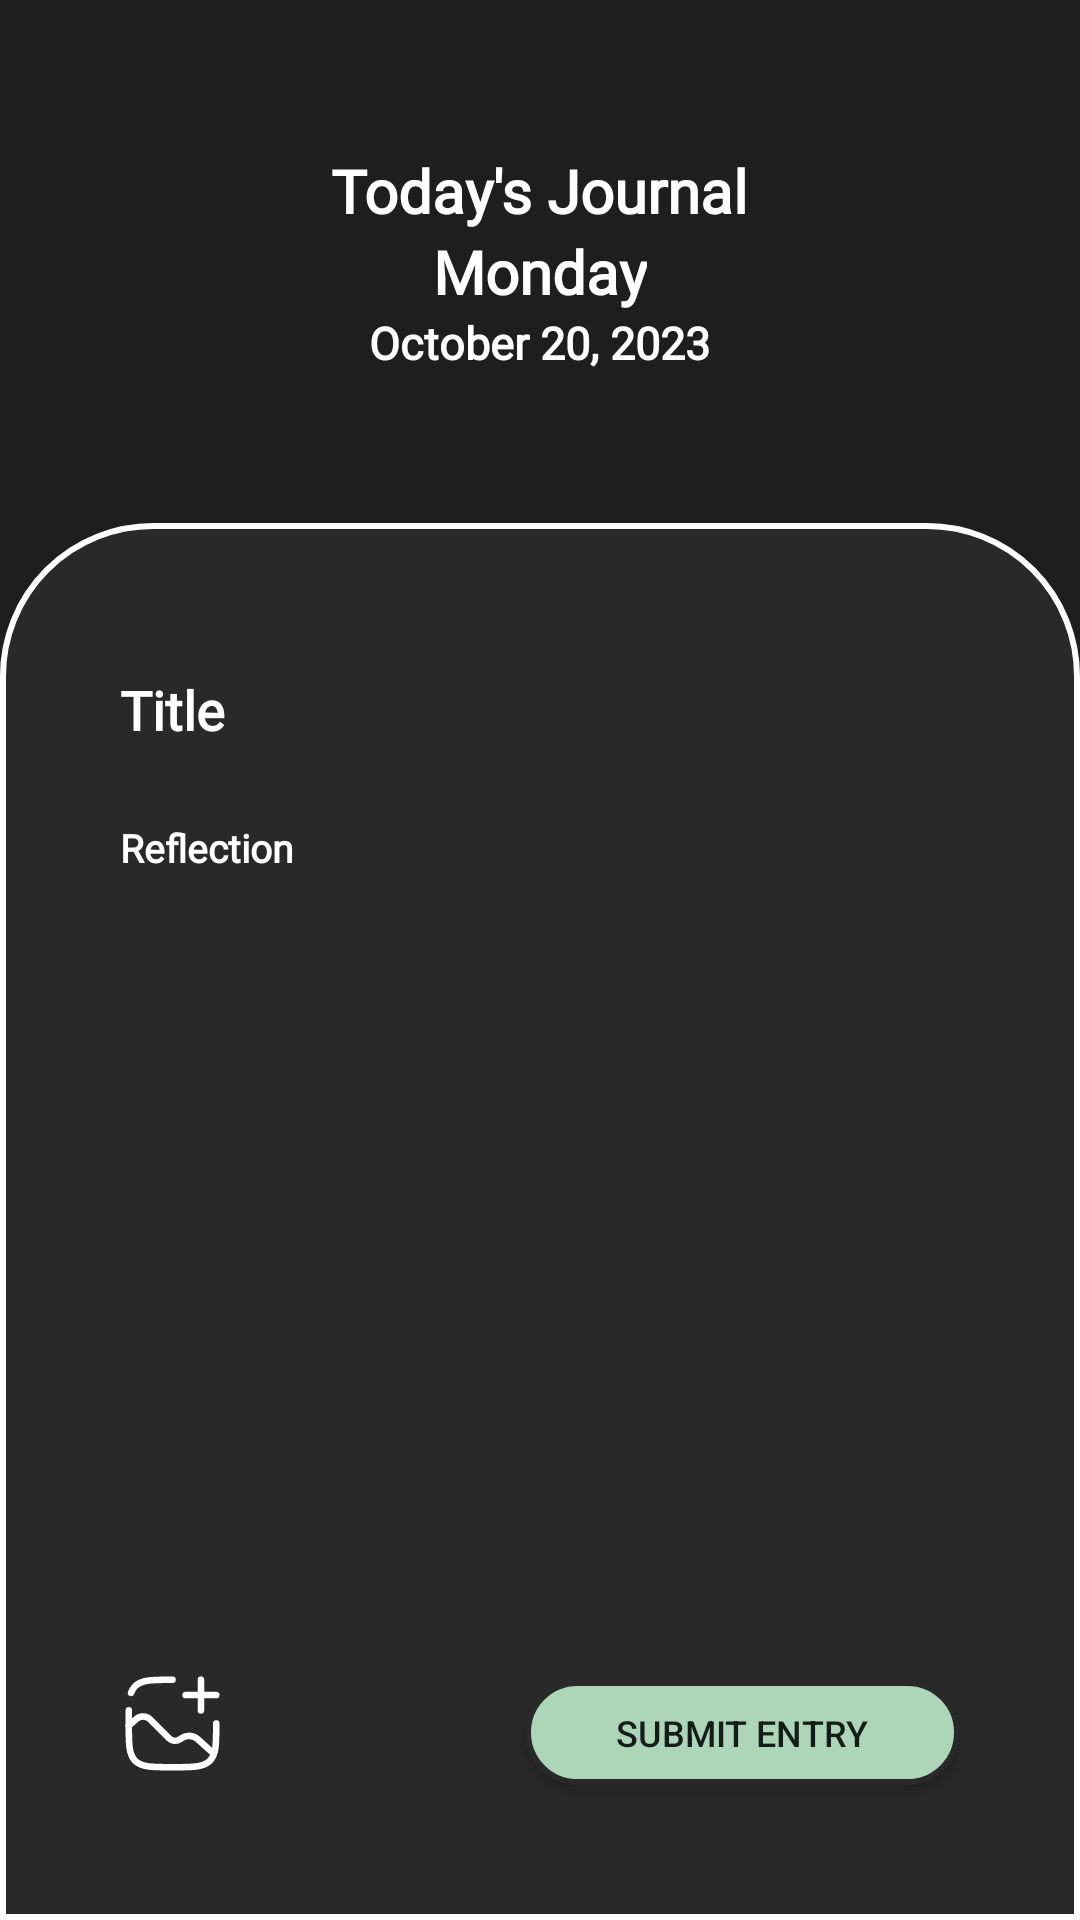

Icons on this 1080px×1920px Android screen, each with its box as box(x1, y1, x2, y2):
gallery: box(125, 1676, 220, 1771)
